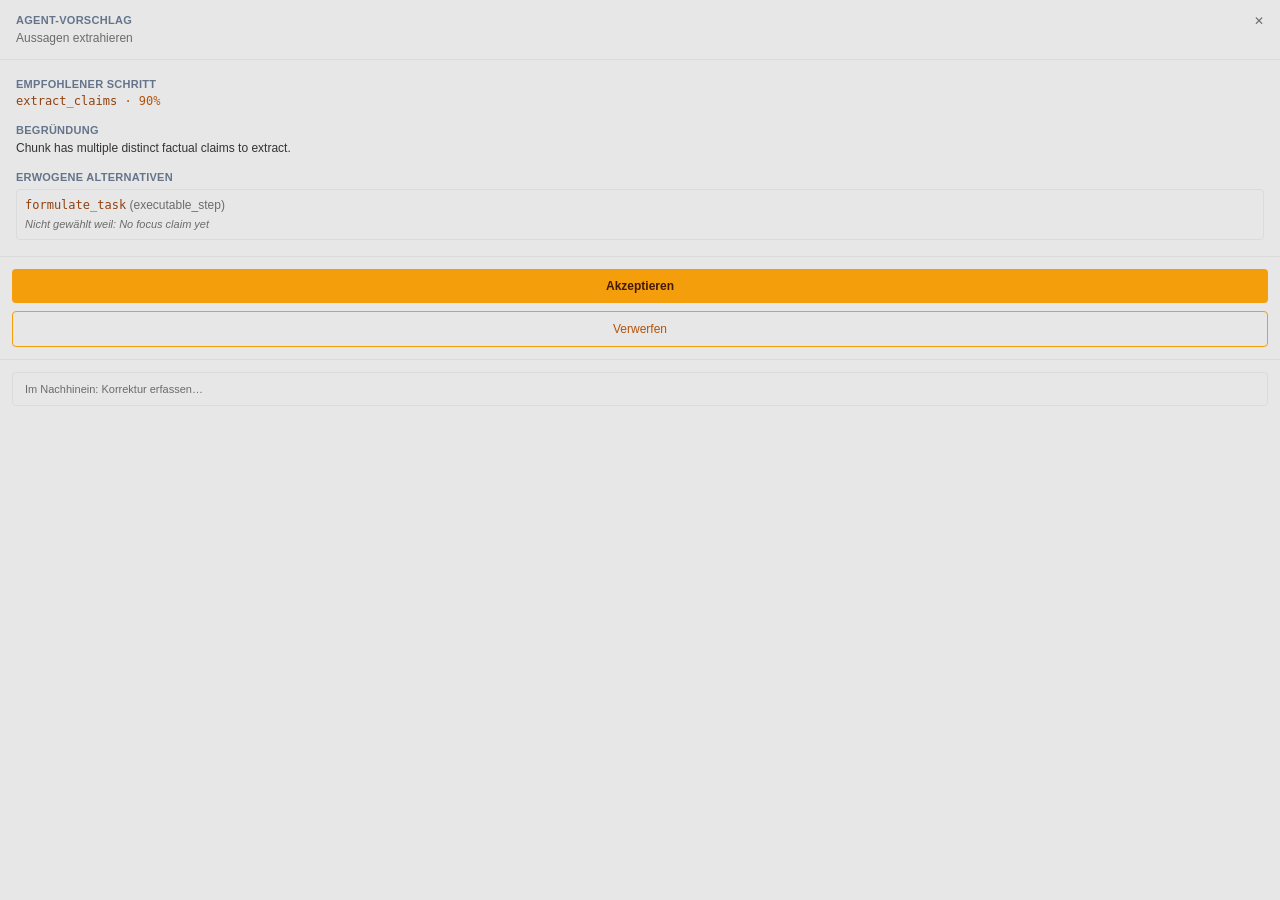
Scenario: PlanProposalPanel — Reasoning-Gap-Analysis clarifying state › transitions to clarifying when /decide response carries clarification
Click the button "Verwerfen" at (640, 328), box [12,310,1268,346]
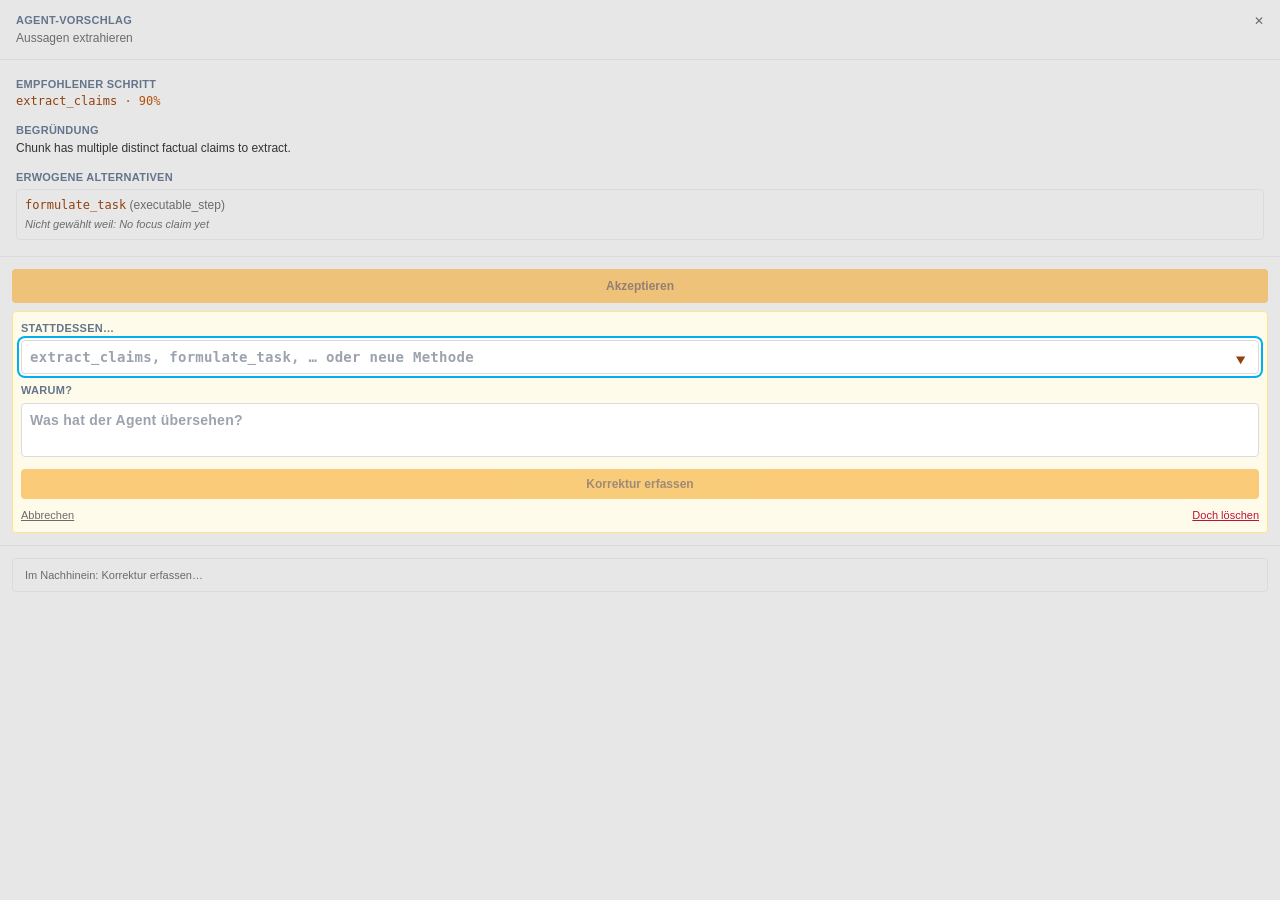
Type "formulate_task" into the field labelled "Stattdessen…" at (640, 357), box [21,340,1259,374]
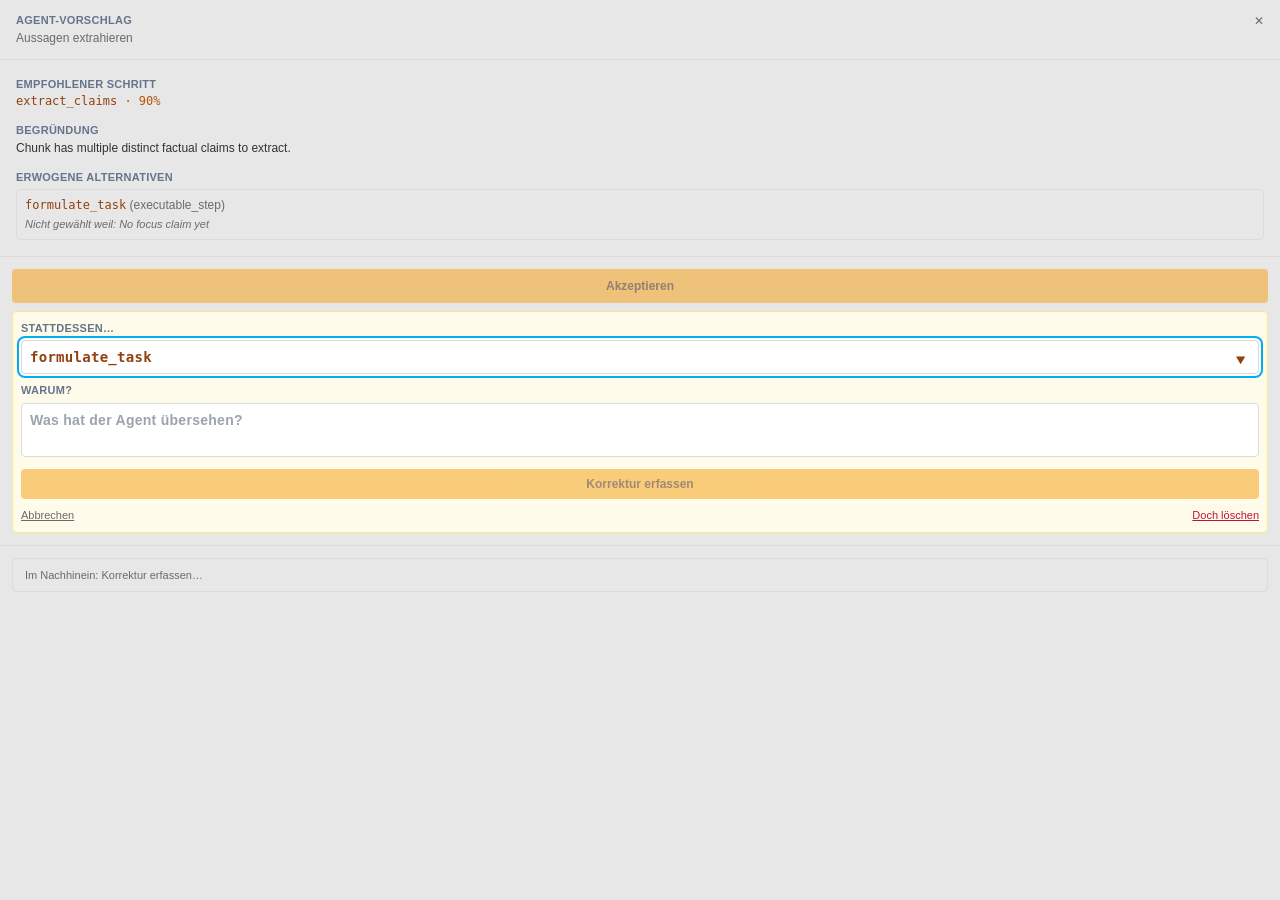
Type "Konstrukt-Definition." into the text box labelled "Warum?" at (640, 430), box [21,402,1259,456]
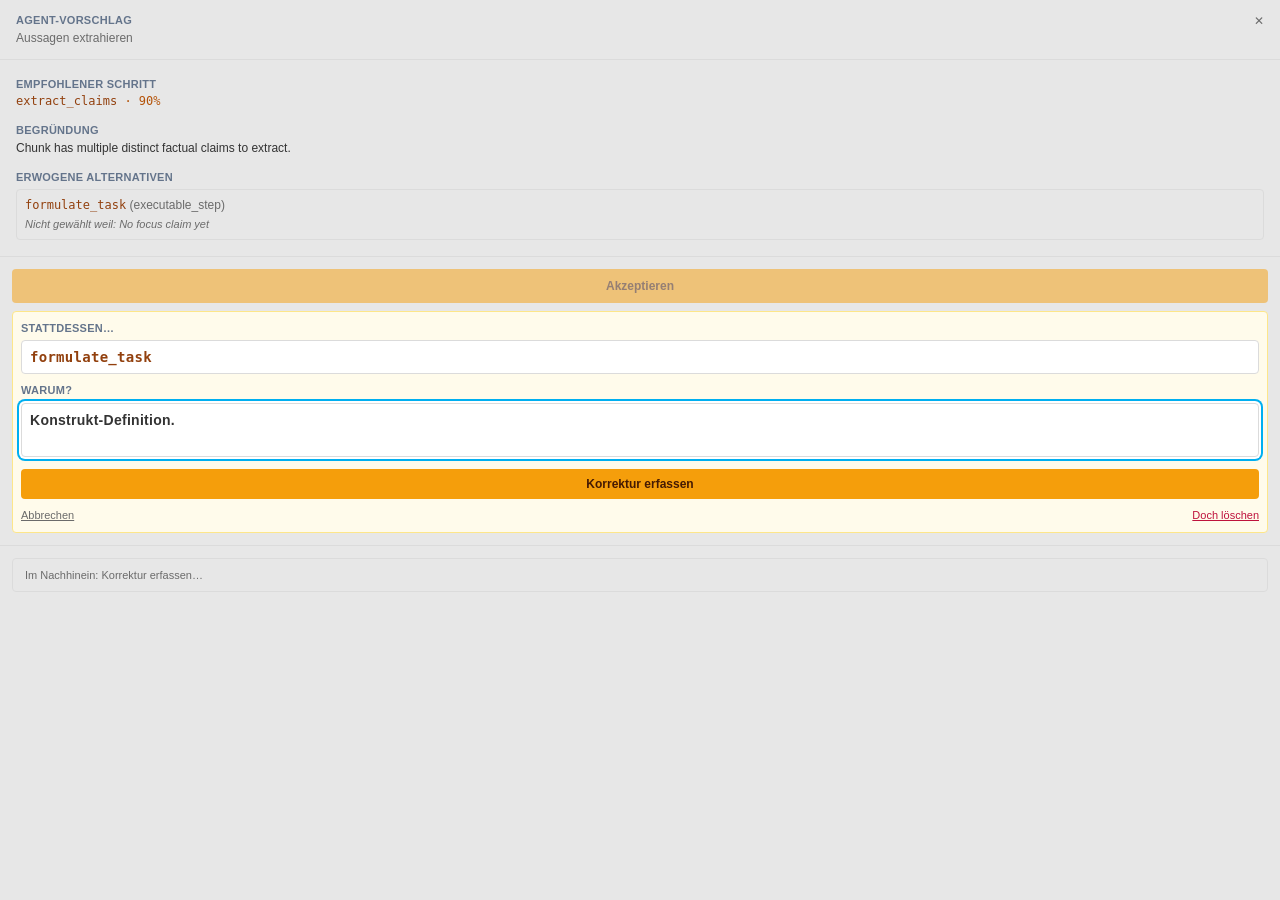
Click the button "Korrektur erfassen" at (640, 484), box [21,469,1259,499]
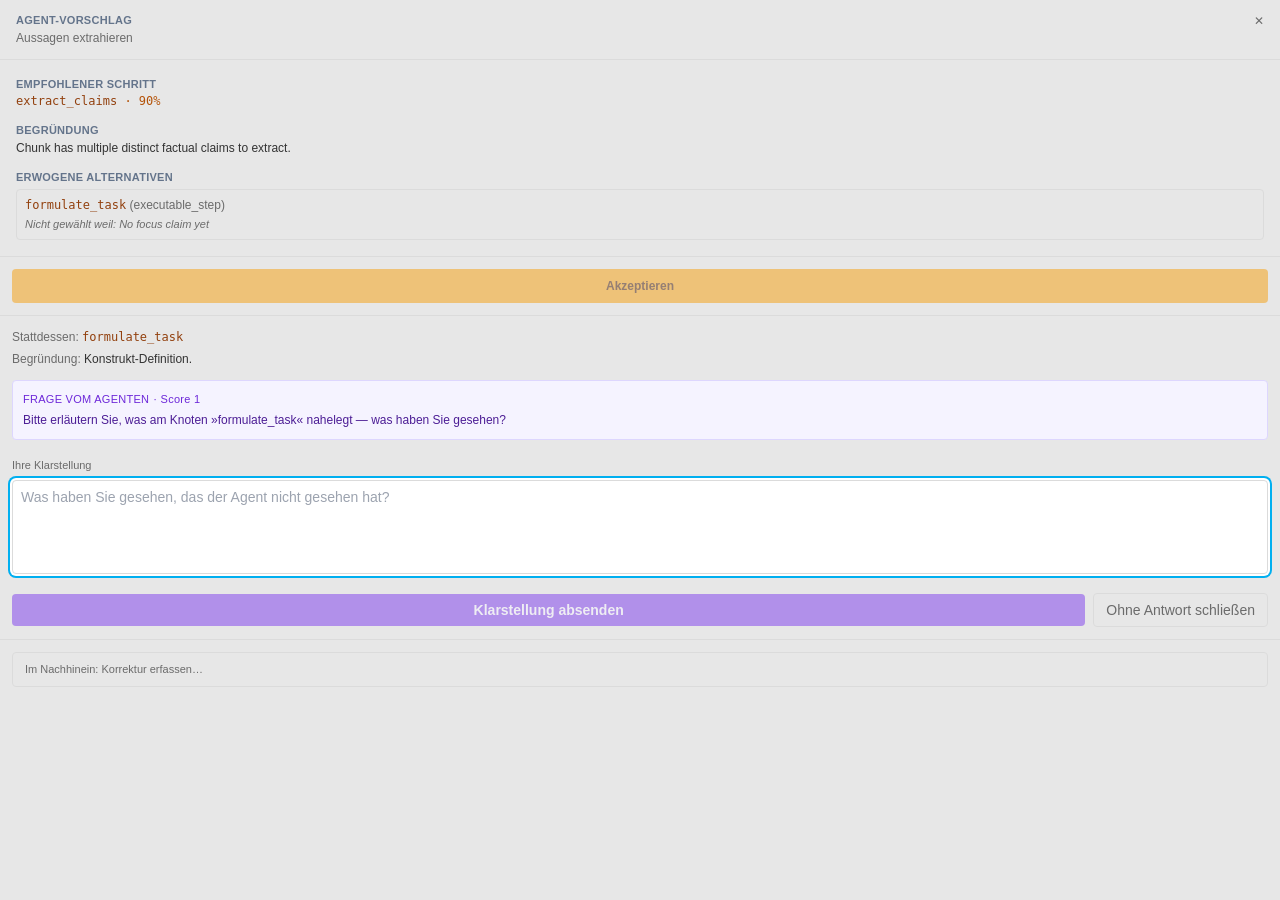
Result: the element with test id "plan-clarifying-section" is shown at [0,314,1279,639]
Result: the message shows "Bitte erläutern Sie" at [23,413,506,427]
Result: the button "Klarstellung absenden" is shown at [12,594,1085,626]
